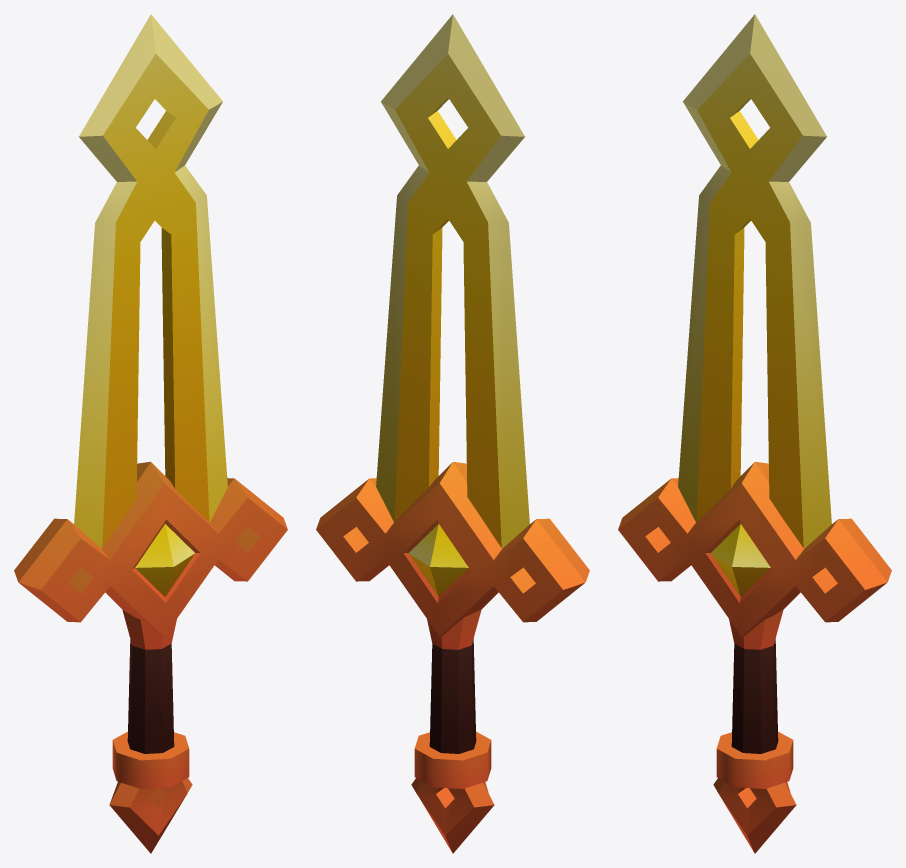
Rendered from Sword03.fbx.
3 views of the same model, side by side, from view 1: azimuth 30°, elevation 25°; view 2: azimuth 150°, elevation 25°; view 3: azimuth 330°, elevation 25° (orthographic).
Parts seen in each view (by area): view 1: Sword03; view 2: Sword03; view 3: Sword03.
Boxes of the visible parts, left/top/right/bottom form: Sword03: left=14, top=14, right=287, bottom=853; Sword03: left=316, top=14, right=589, bottom=853; Sword03: left=618, top=14, right=891, bottom=853.
Size of the model in its own units: 16.94 by 51.24 by 5.08.
